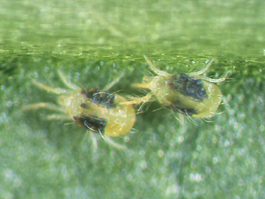Mites: (26, 71, 134, 149), (132, 55, 237, 123)
